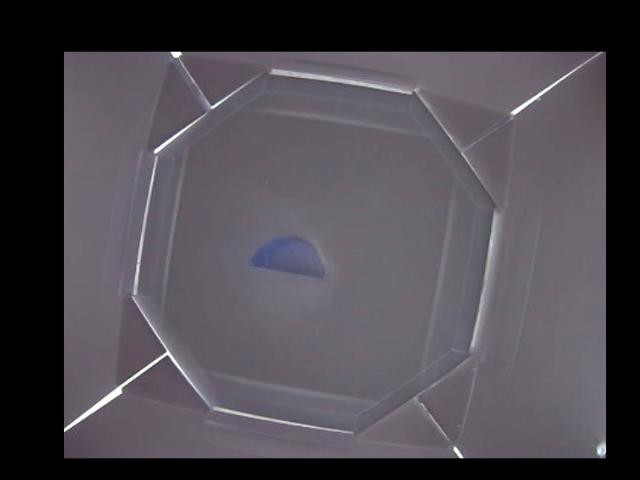Mooli: (248, 236, 326, 277)
